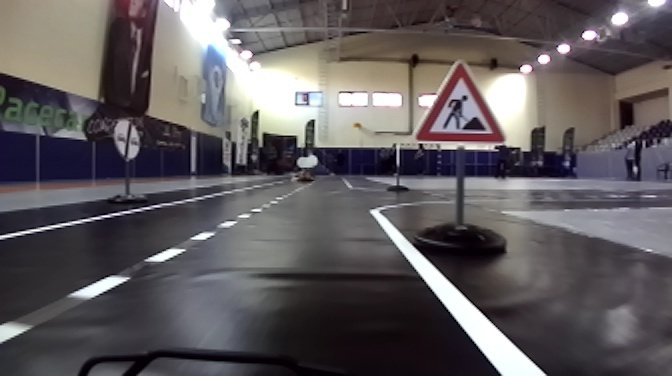yol_yapimi: (407, 68, 507, 143)
